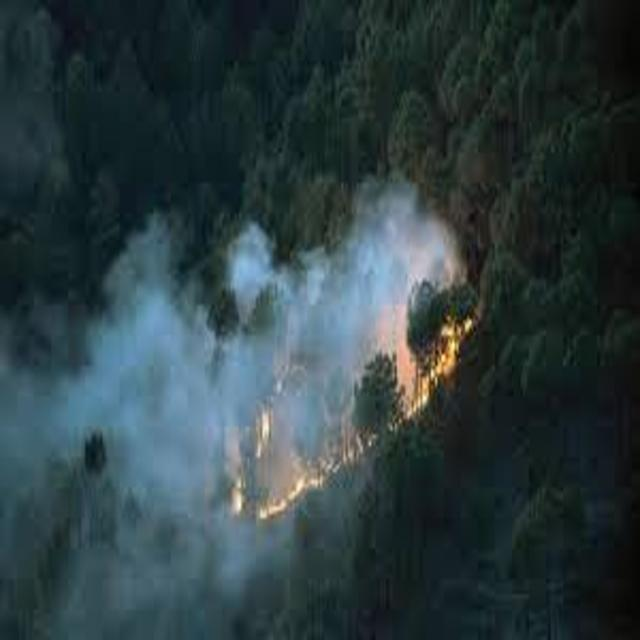Fire: (378, 304, 478, 402), (227, 461, 320, 525)
Smoke: (0, 312, 96, 640), (109, 210, 308, 311), (100, 312, 219, 472), (101, 502, 211, 640), (218, 522, 292, 640), (364, 194, 442, 292), (226, 330, 296, 428), (308, 280, 368, 390)
